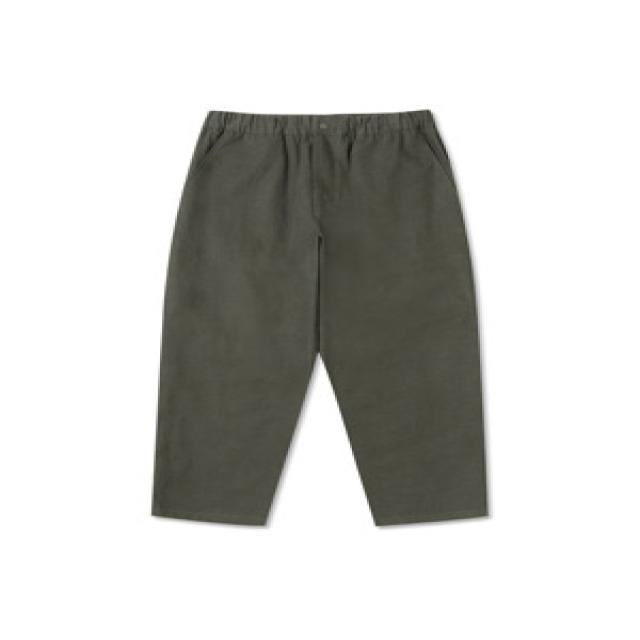pants: (149, 106, 491, 524)
